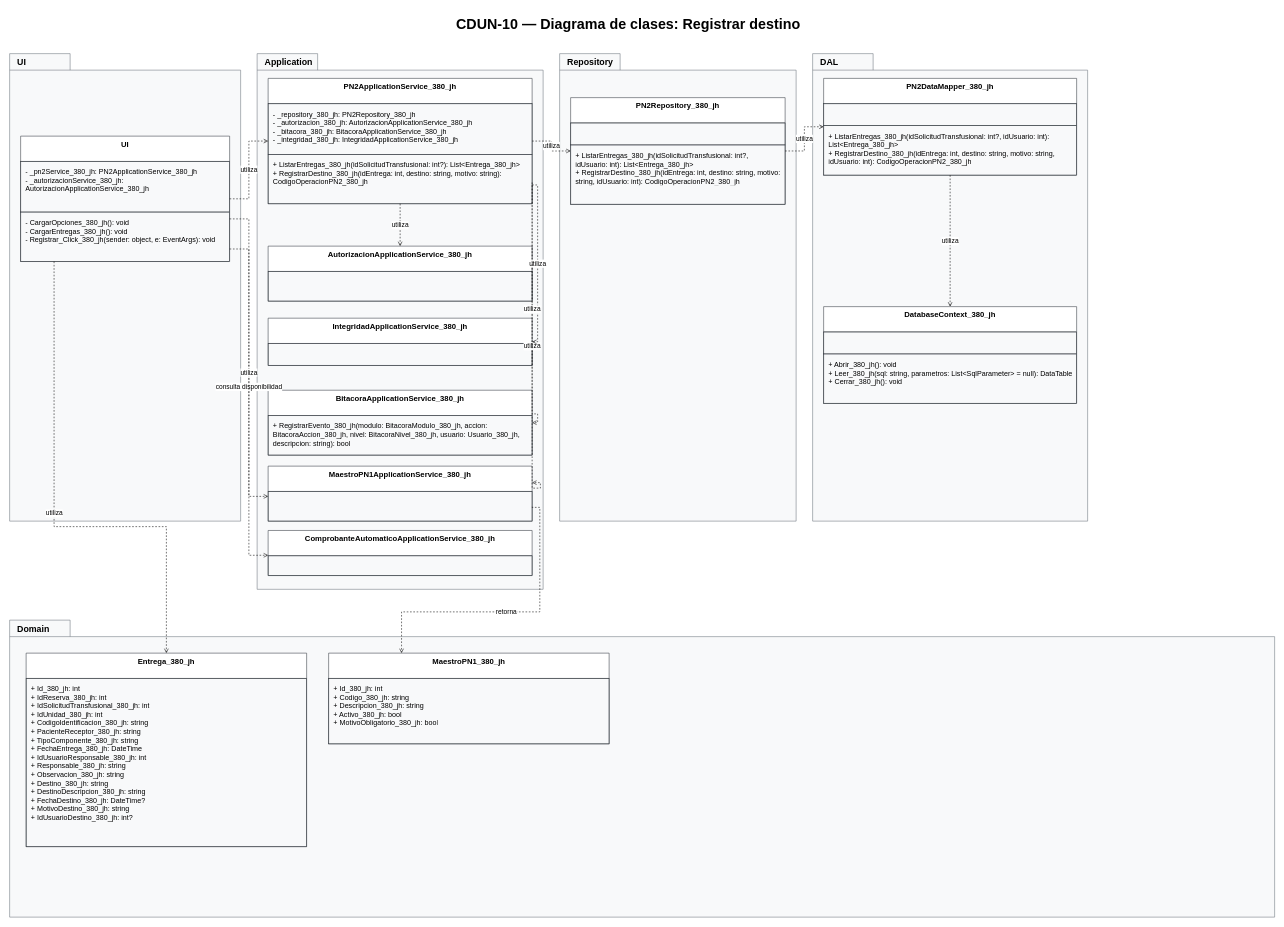
The diagram is 1284 pixels wide and 927 high, and some of its shapes have lost their labels. The centre of each missing label's shape, as x and y in pixels:
+ Conexion_380_jh: SqlConnection: point (950, 342)
+ Disponible_380_jh(): bool: point (400, 565)
+ Listar_380_jh(tipo: string, soloActivos: bool = true): List<MaestroPN1_380_jh>: point (400, 506)
+ TienePermiso_380_jh(usuario: Usuario_380_jh, codigoPermiso: string): bool: point (400, 286)
+ Verificar_380_jh(): InformeIntegridad_380_jh: point (400, 354)
- _databaseContext_380_jh: DatabaseContext_380_jh: point (950, 114)
- _mapper_380_jh: PN2DataMapper_380_jh: point (677, 133)
